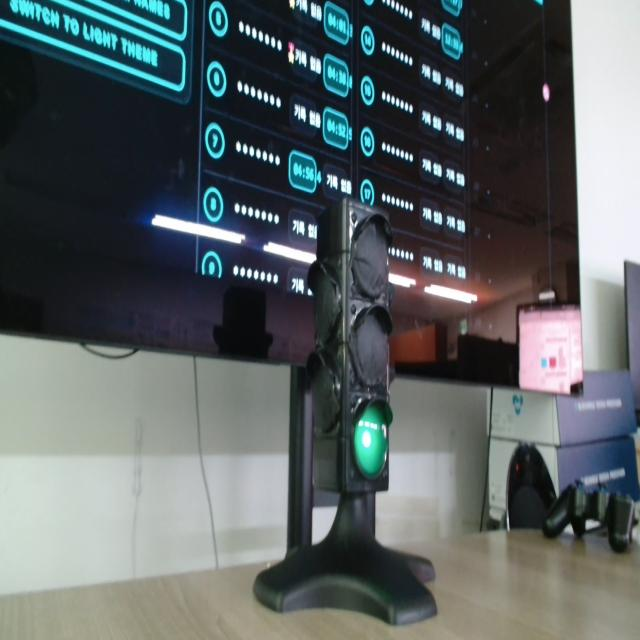green_light: (354, 403, 390, 479)
